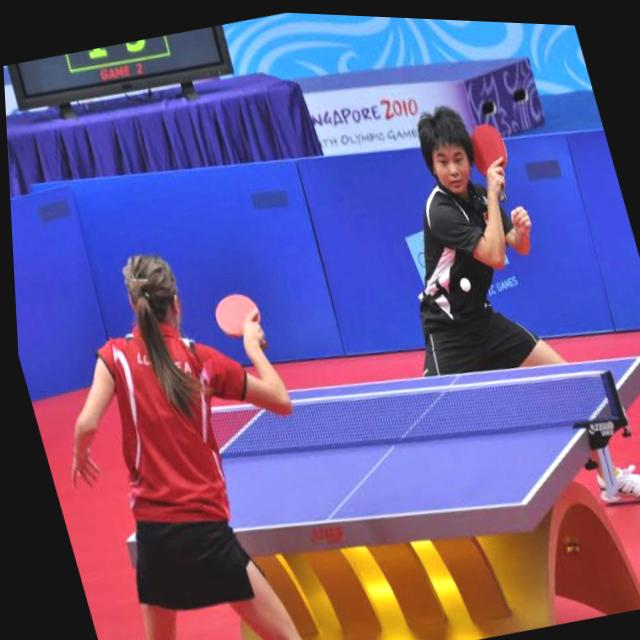TT Net: (124, 361, 630, 465)
TT Racket: (205, 280, 271, 344), (460, 111, 515, 184)
TT Table: (125, 356, 640, 539)
